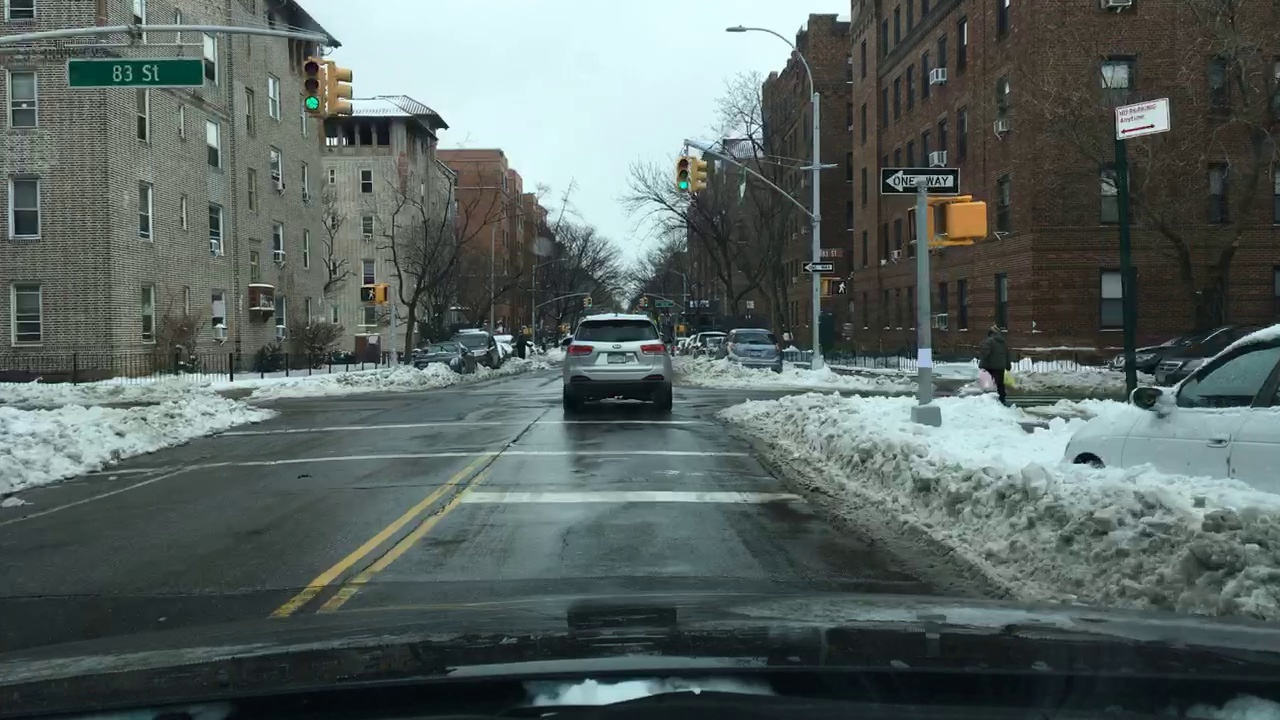car: (564, 309, 675, 411), (713, 327, 786, 380)
person: (979, 322, 1014, 404), (516, 324, 536, 364)
traffic light: (297, 52, 332, 128), (674, 148, 694, 198)
